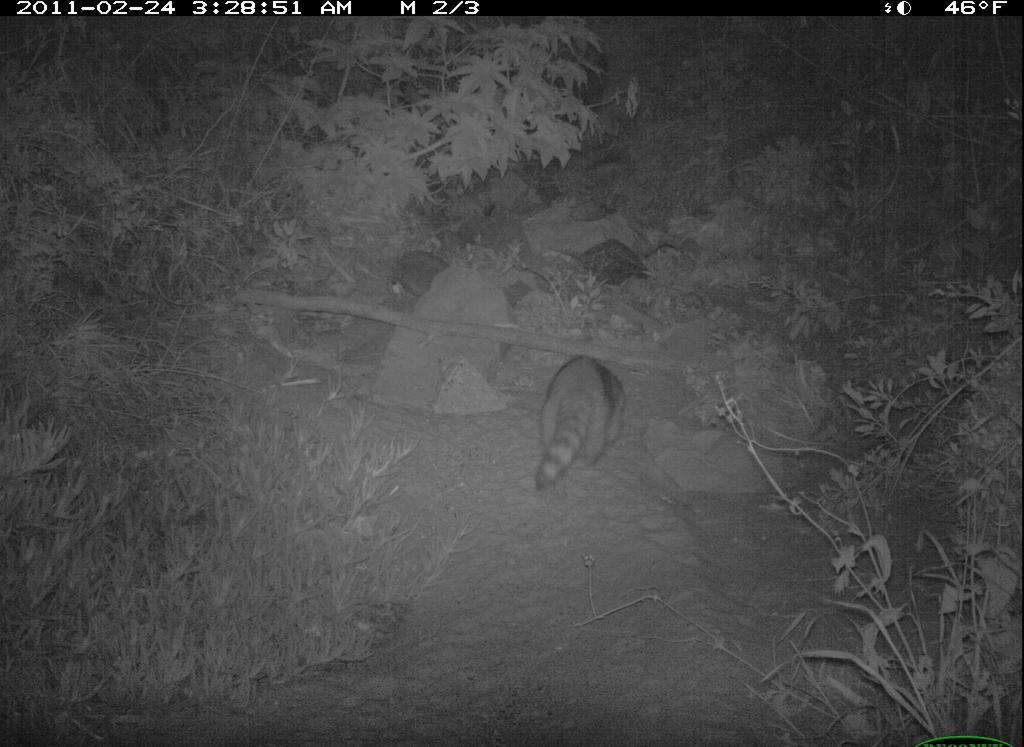raccoon: (498, 336, 651, 497)
